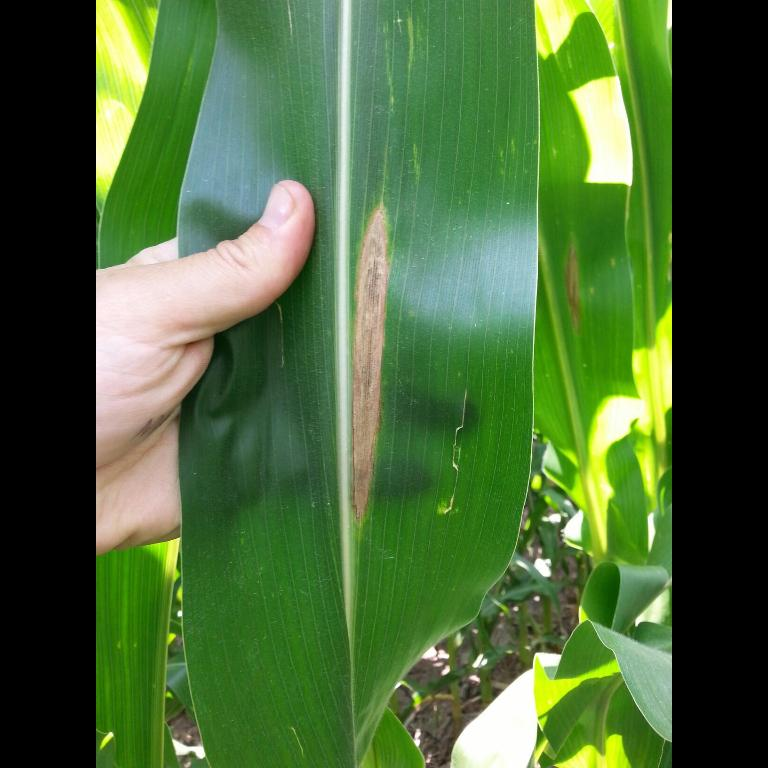blight: (336, 177, 400, 535)
